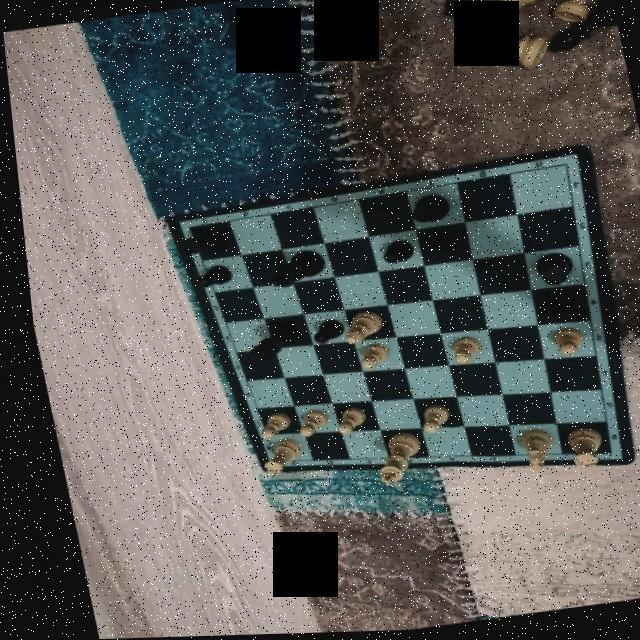chess-table-corners: (552, 160, 570, 175), (591, 450, 609, 462), (176, 223, 192, 234)
